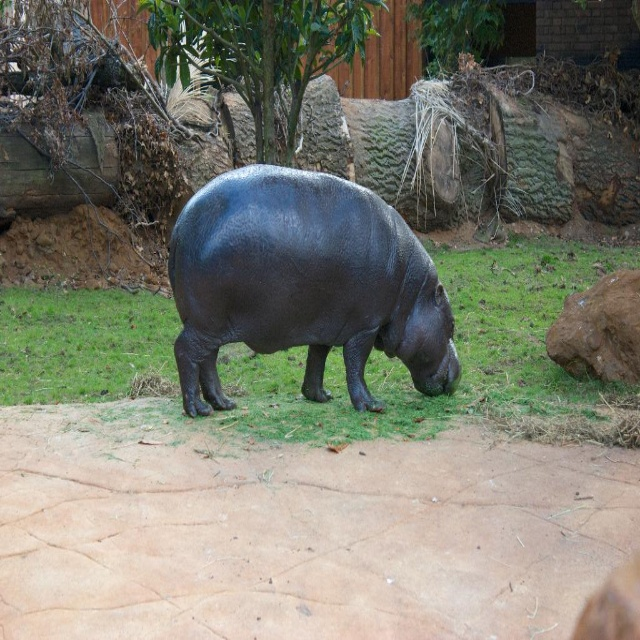Hippopotamus: (168, 165, 461, 418)
